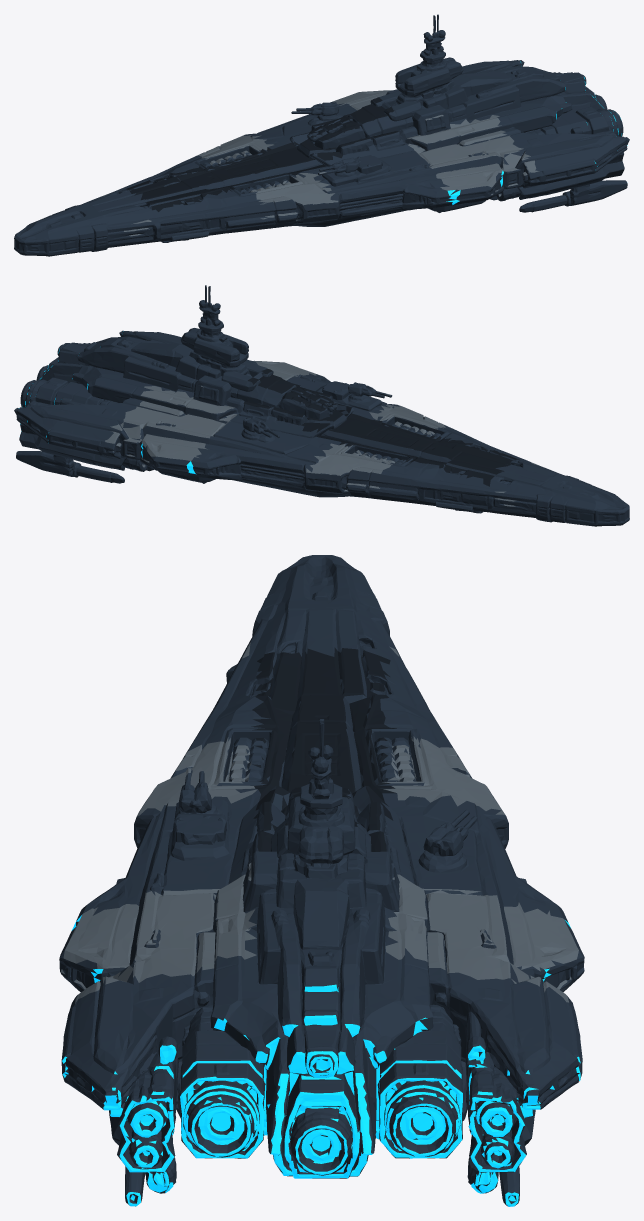
The model's file is line_ship.glb.
3 views of the same model, one above another, from view 1: azimuth 30°, elevation 25°; view 2: azimuth 150°, elevation 25°; view 3: azimuth 270°, elevation 25° (orthographic). The views are drawn at different scales.
Parts seen in each view (by area): view 1: mesh_node; view 2: mesh_node; view 3: mesh_node.
Boxes of the visible parts, box(x1,y1,x2,y2) form: mesh_node: box(14, 14, 629, 256); mesh_node: box(14, 285, 629, 526); mesh_node: box(59, 555, 584, 1206).
Bounding box in the file's own units: 1.9 × 0.5749 × 0.7403.
